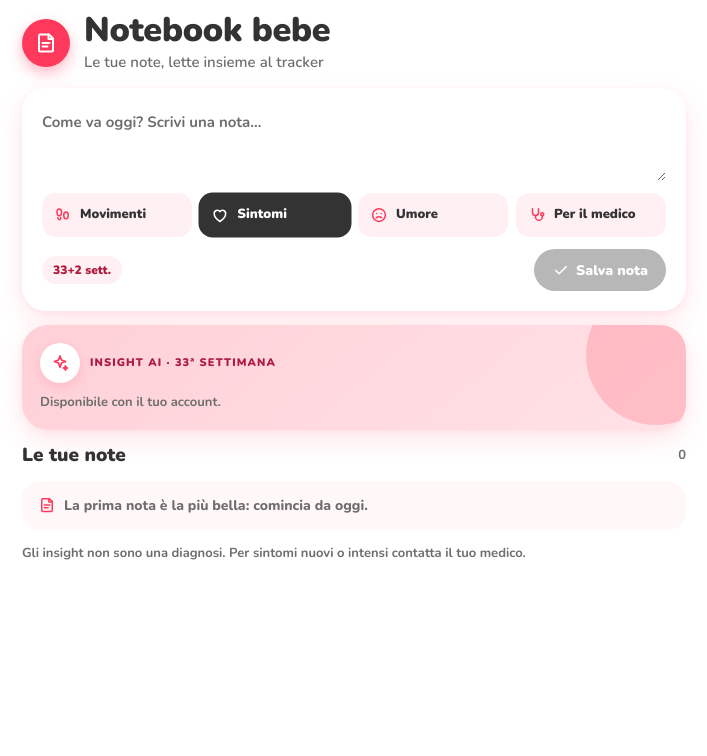
it: La mamma › Notebook: salva una nota e filtra per categoria, senza consensi da accettare
In the text box named "Nuova nota": point(354, 145) x1=42 y1=108 x2=666 y2=181, type "Calci fortissimi dopo cena"
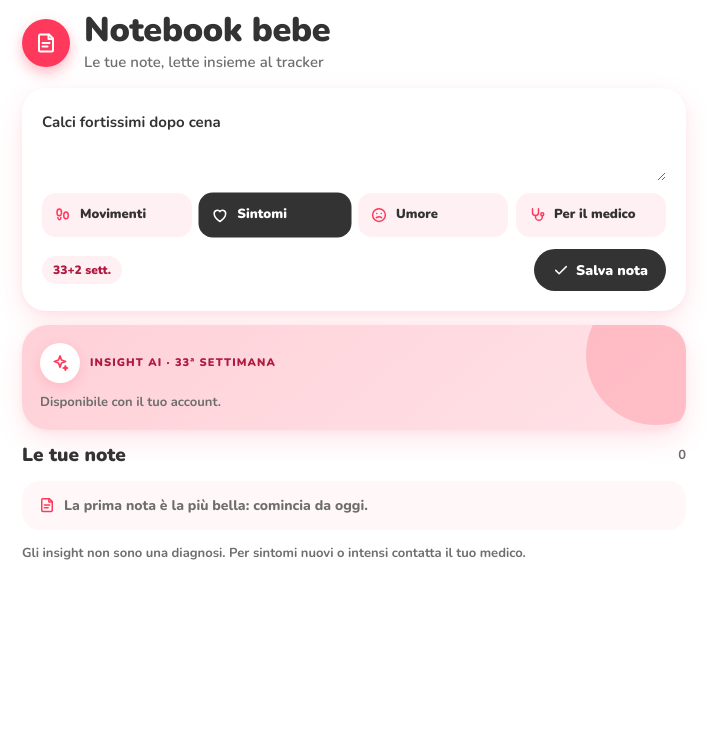
Click the button "Movimenti": point(117, 215) x1=42 y1=193 x2=192 y2=237
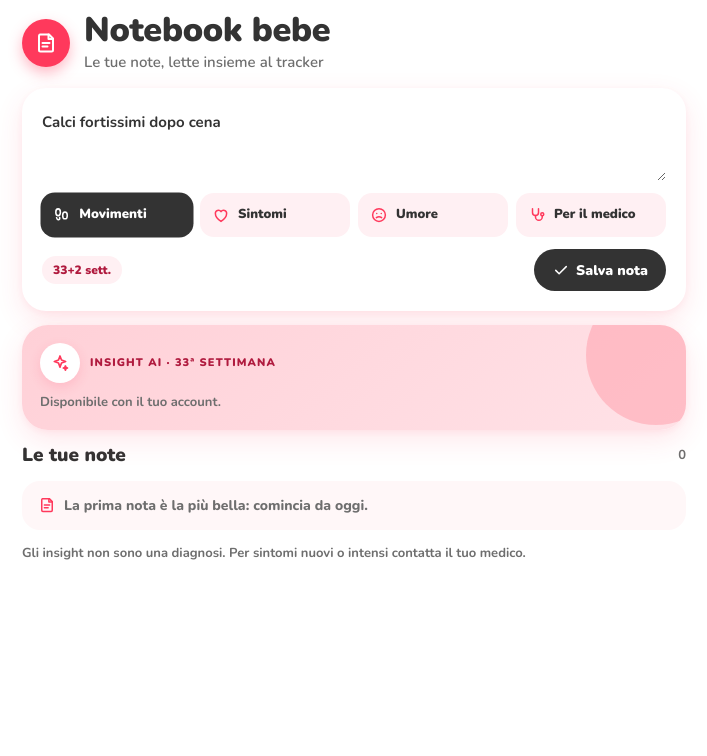
Click the button "Salva nota": point(600, 270) x1=534 y1=249 x2=666 y2=291
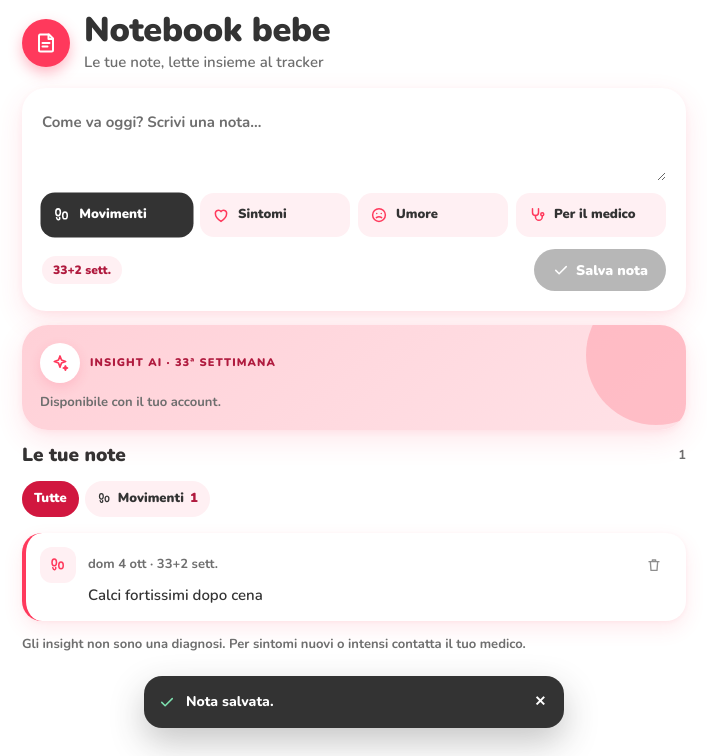
Result: the text "Calci fortissimi dopo cena" is shown at x1=88 y1=585 x2=263 y2=605
Result: the button "Movimenti 1" is shown at x1=85 y1=481 x2=210 y2=517
